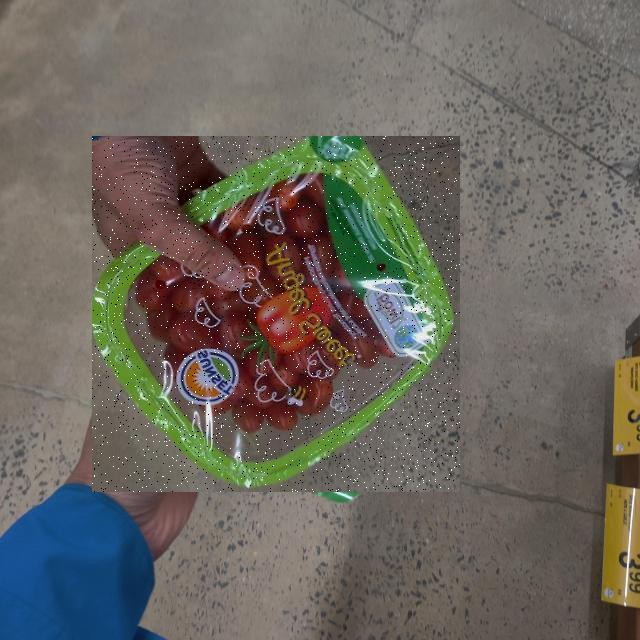tomato: (0, 246, 322, 640)
